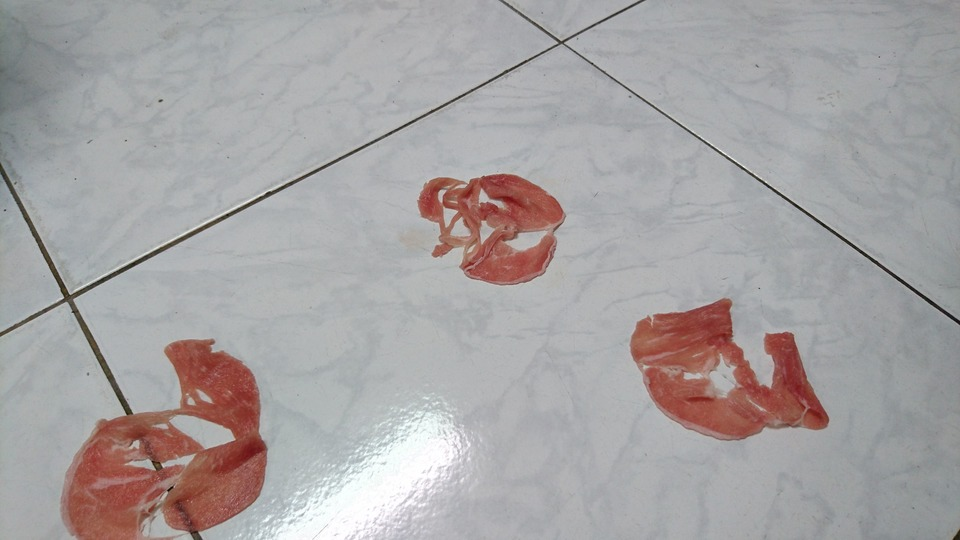restructured meat: (59, 332, 274, 540), (619, 298, 830, 442), (417, 160, 569, 296)
